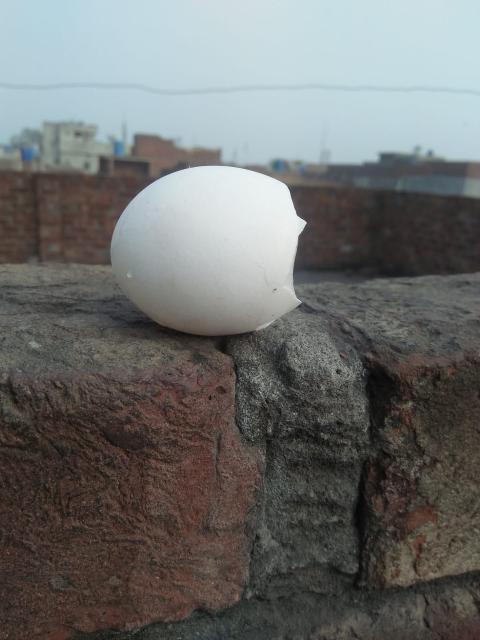Roto: (109, 164, 307, 337)
